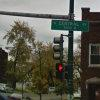Traffic light: (45, 28, 72, 78)
